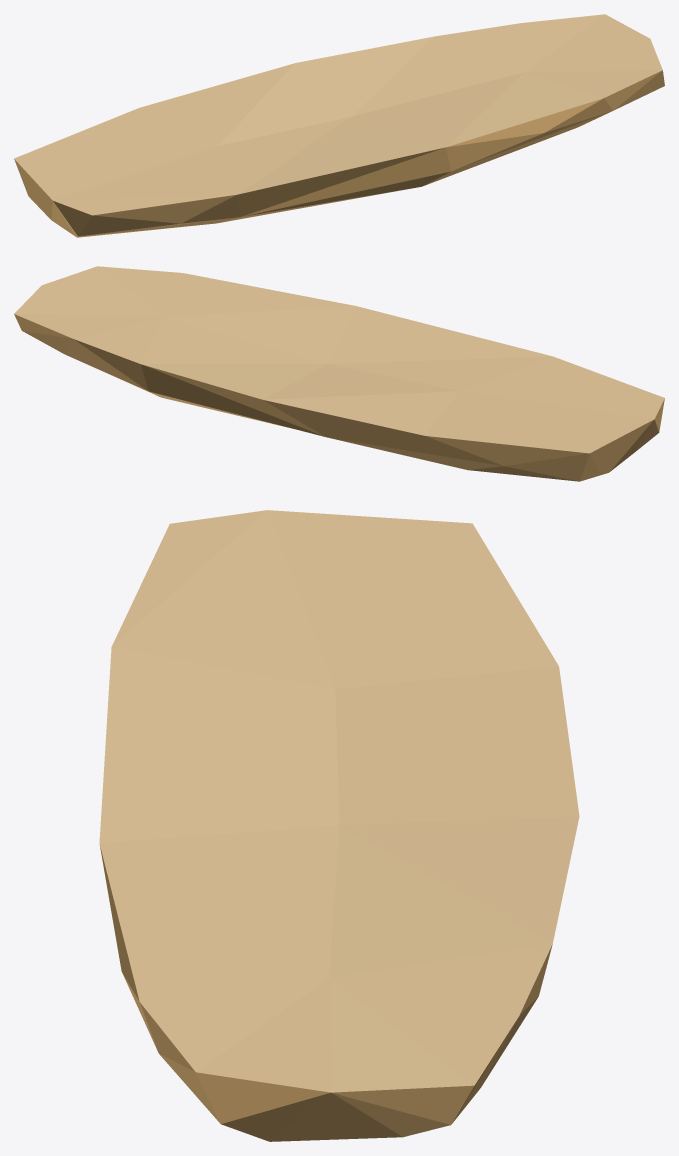
The model's file is whitebread_bottom.fbx.
3 renders of one model, top to bottom at view 1: azimuth 30°, elevation 25°; view 2: azimuth 150°, elevation 25°; view 3: azimuth 270°, elevation 25°, orthographic. The views are drawn at different scales.
Visible parts, largest first — view 1: White Bread Bottom; view 2: White Bread Bottom; view 3: White Bread Bottom.
Boxes of the visible parts, box(x1,y1,x2,y2) form: White Bread Bottom: box(14, 14, 664, 237); White Bread Bottom: box(14, 266, 664, 481); White Bread Bottom: box(99, 510, 579, 1141).
Size of the model in its own units: 294 by 23.04 by 102.
